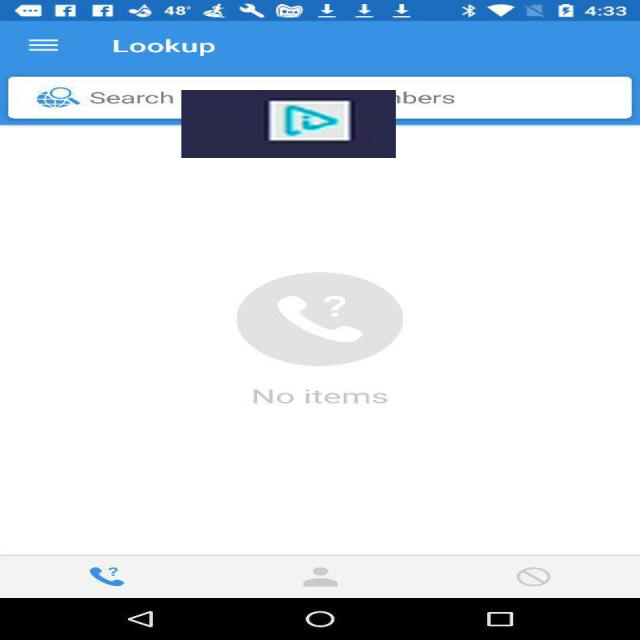sneaking: (181, 90, 396, 158)
